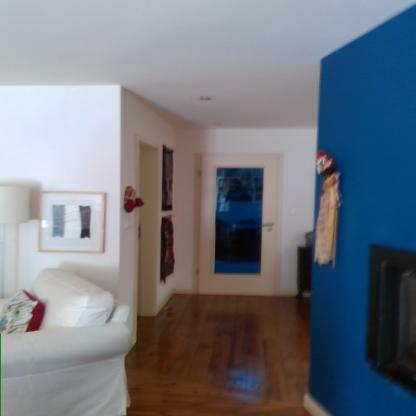closed: (198, 148, 289, 289)
